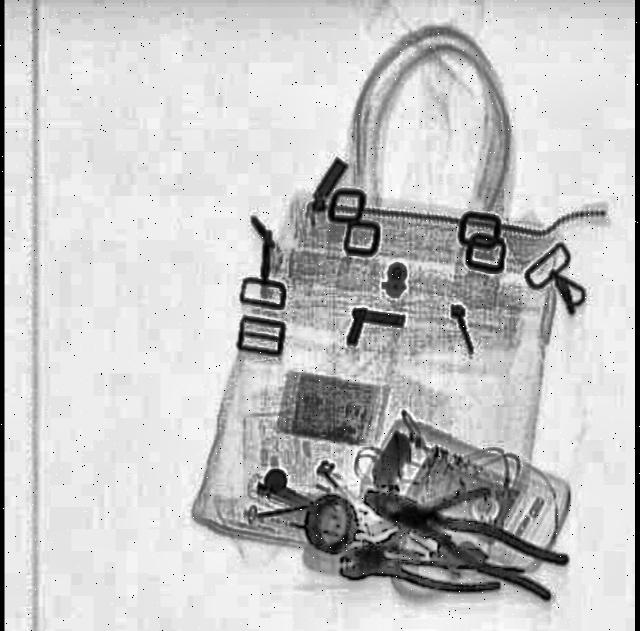Pliers: (353, 470, 570, 603), (331, 484, 500, 611)
